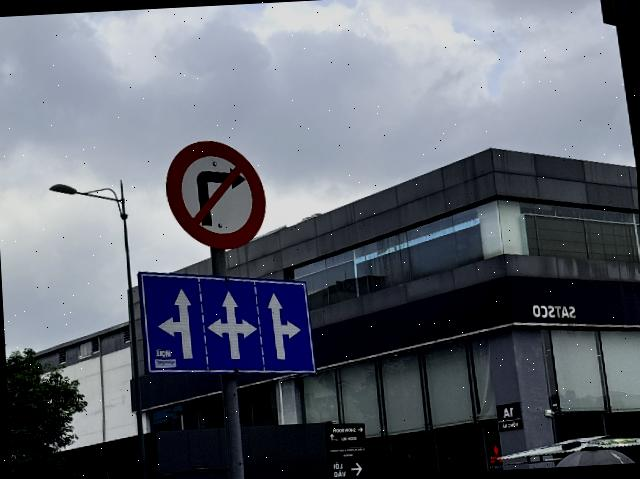cam-re-trai: (162, 136, 269, 252)
